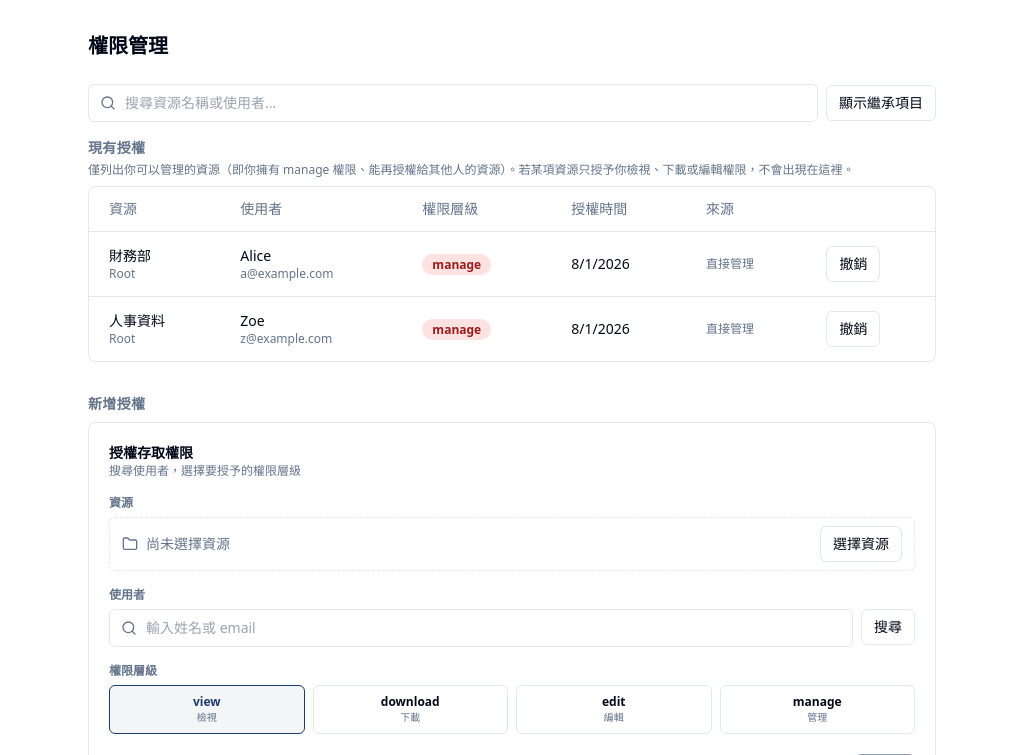
it: PermissionsDashboard › filters displayed entries by the search box against resource name and principal
Check: the text "財務部" is shown, box [109,246,151,265]
Check: the text "人事資料" is shown, box [109,311,165,330]
Type "財務" into the field with test id "permissions-filter-input" at point(453, 103), box [88,84,818,122]
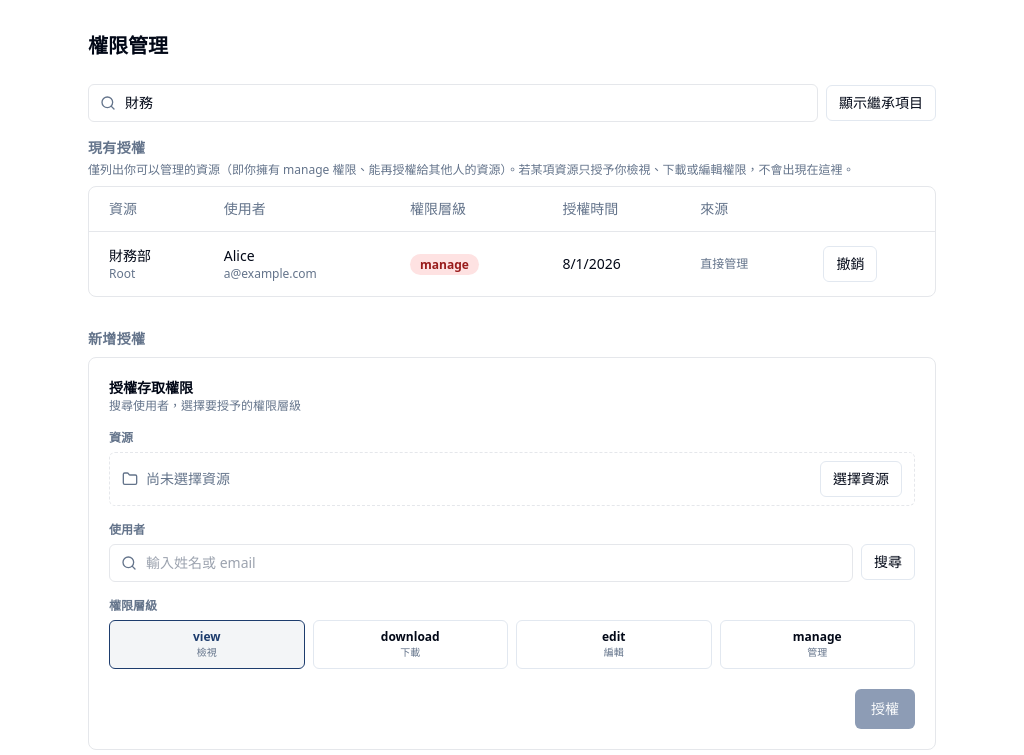
Check: the text "財務部" is shown, box [109,246,151,265]
Check: the text "人事資料" is gone
